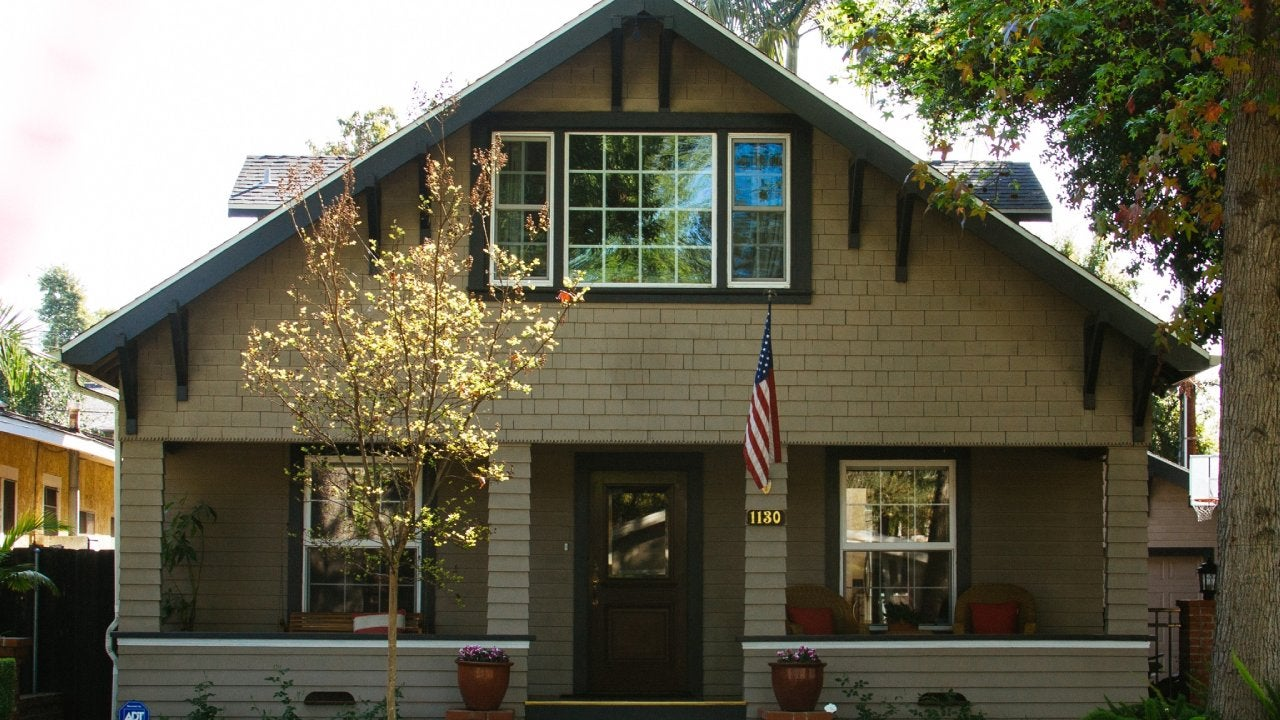Window: (492, 132, 789, 284), (841, 462, 955, 631), (306, 463, 422, 621), (607, 486, 669, 577)
